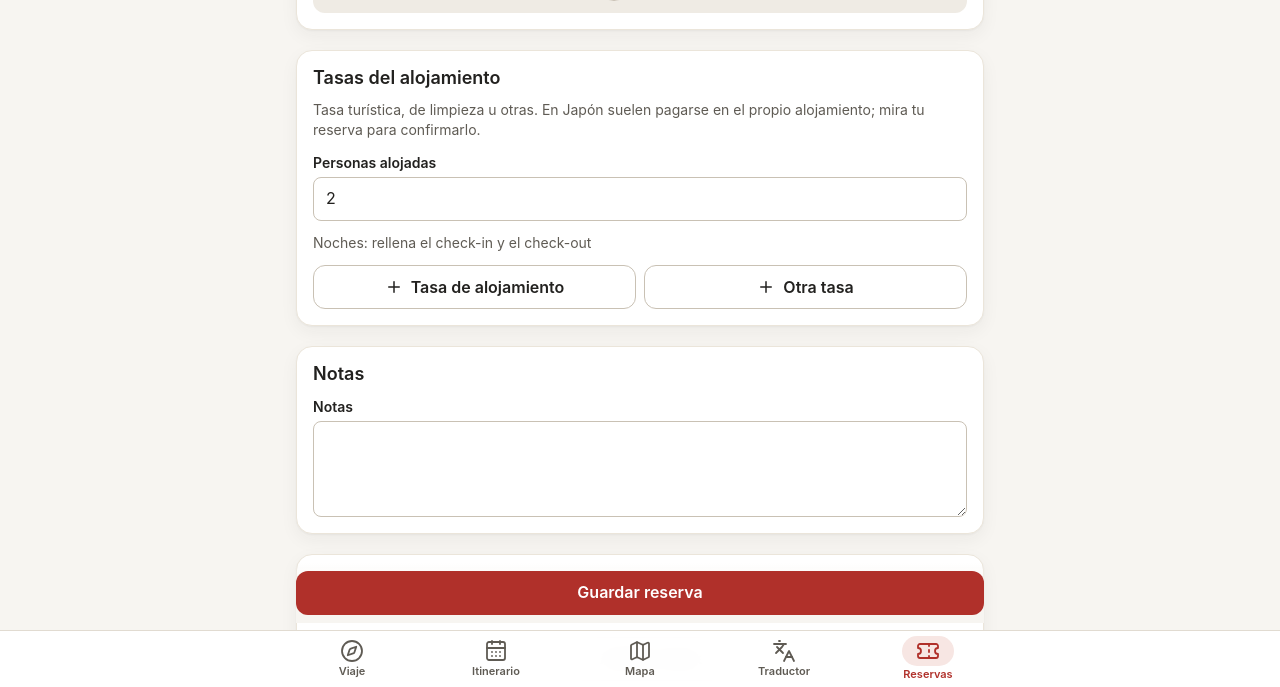
yenes y euros › un alojamiento permite añadir tasas y calcula su total
(page scrolled)
Click the button "Tasa de alojamiento" at (474, 287), box [313,265,636,309]
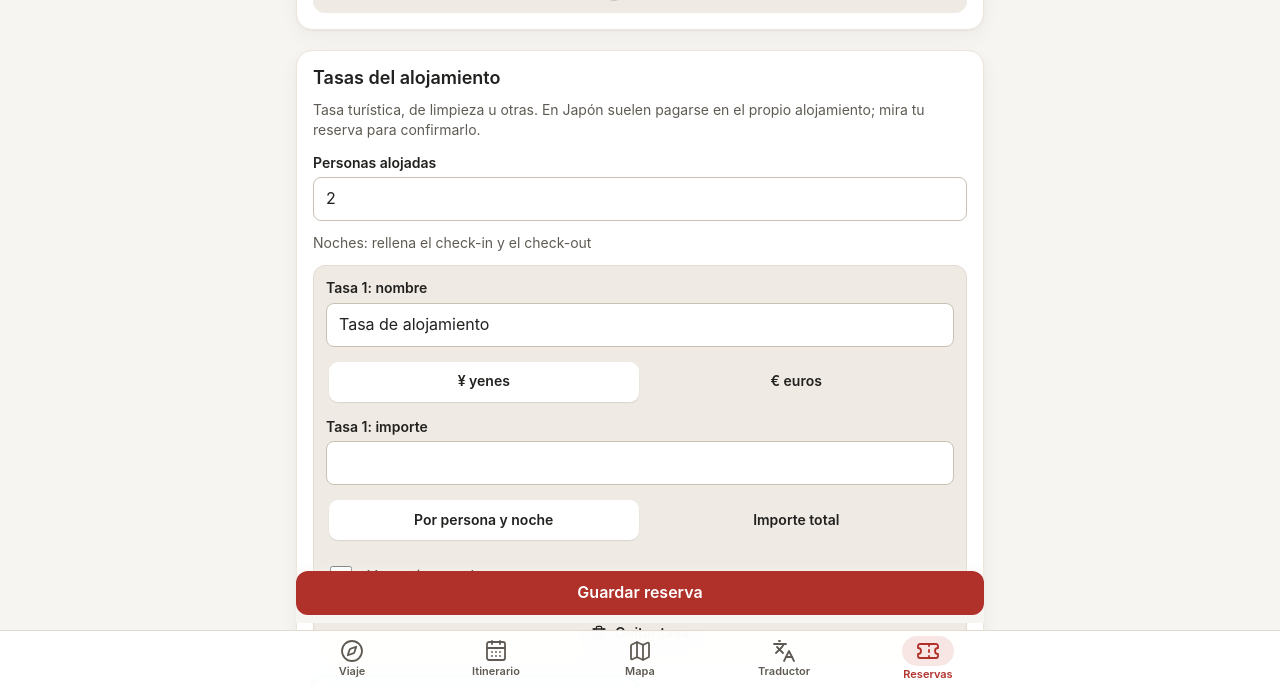
Type "200" into the field labelled "Tasa 1: importe" at (640, 463), box [326,441,954,485]
(page scrolled)
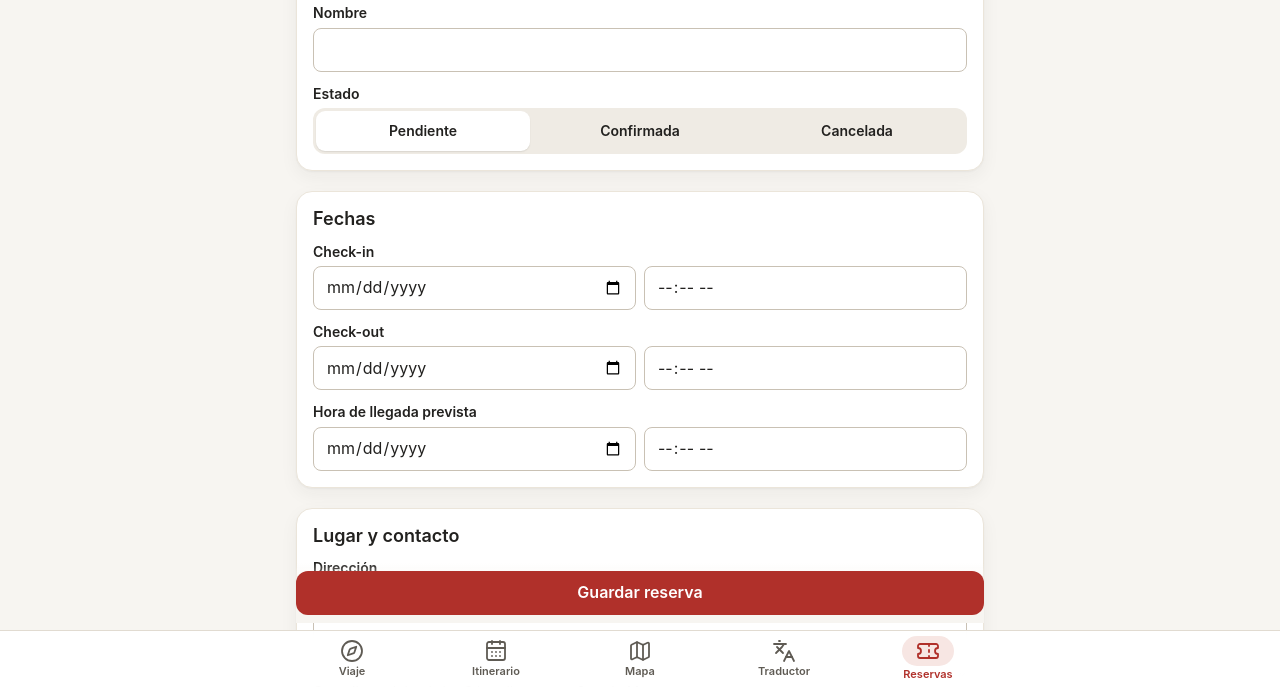
Type "2030-05-02" into the date field named "Check-in: fecha" at (474, 288), box [313,266,636,310]
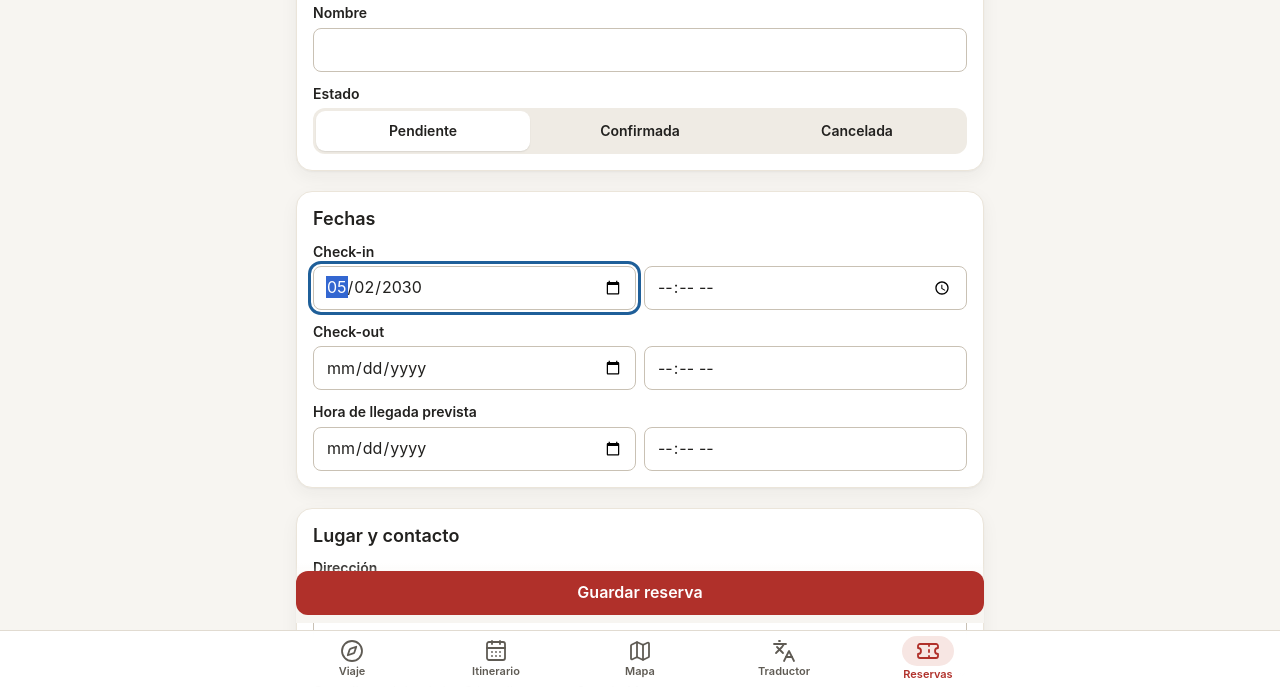
Type "2030-05-05" into the date field named "Check-out: fecha" at (474, 368), box [313,346,636,390]
(page scrolled)
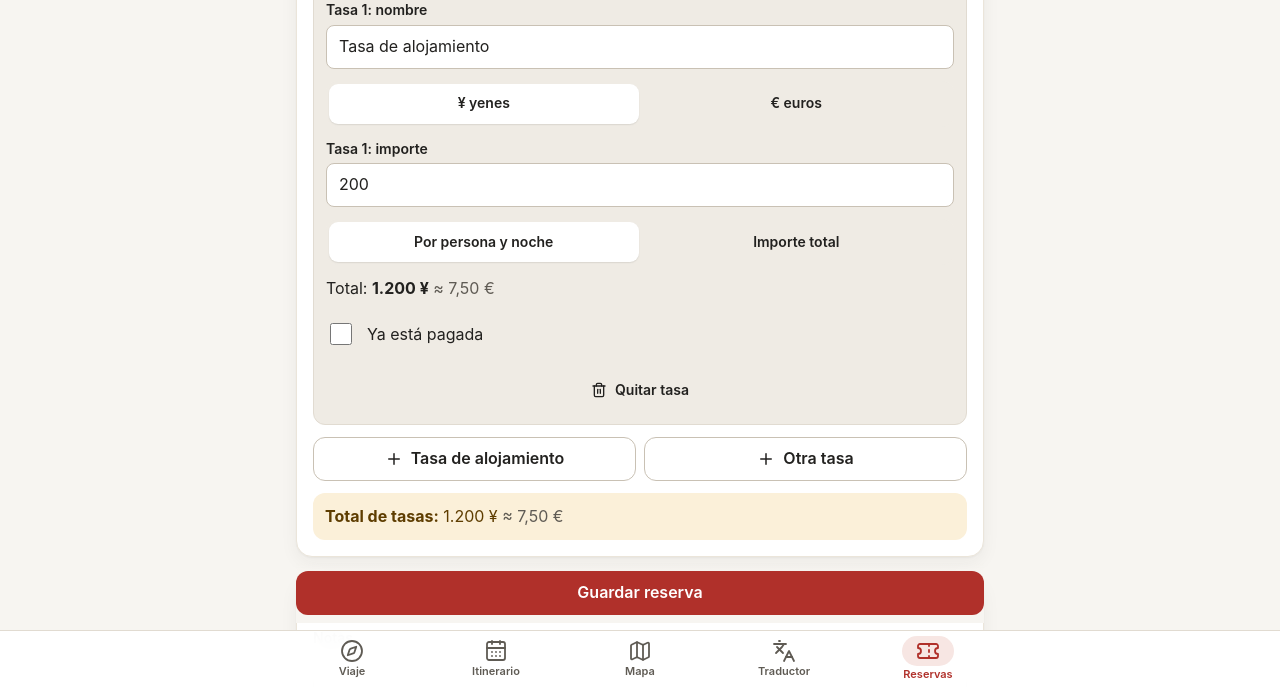
Check: the text "≈ 7,50 €" in the row of "Total:" is shown, box [448,278,495,298]
